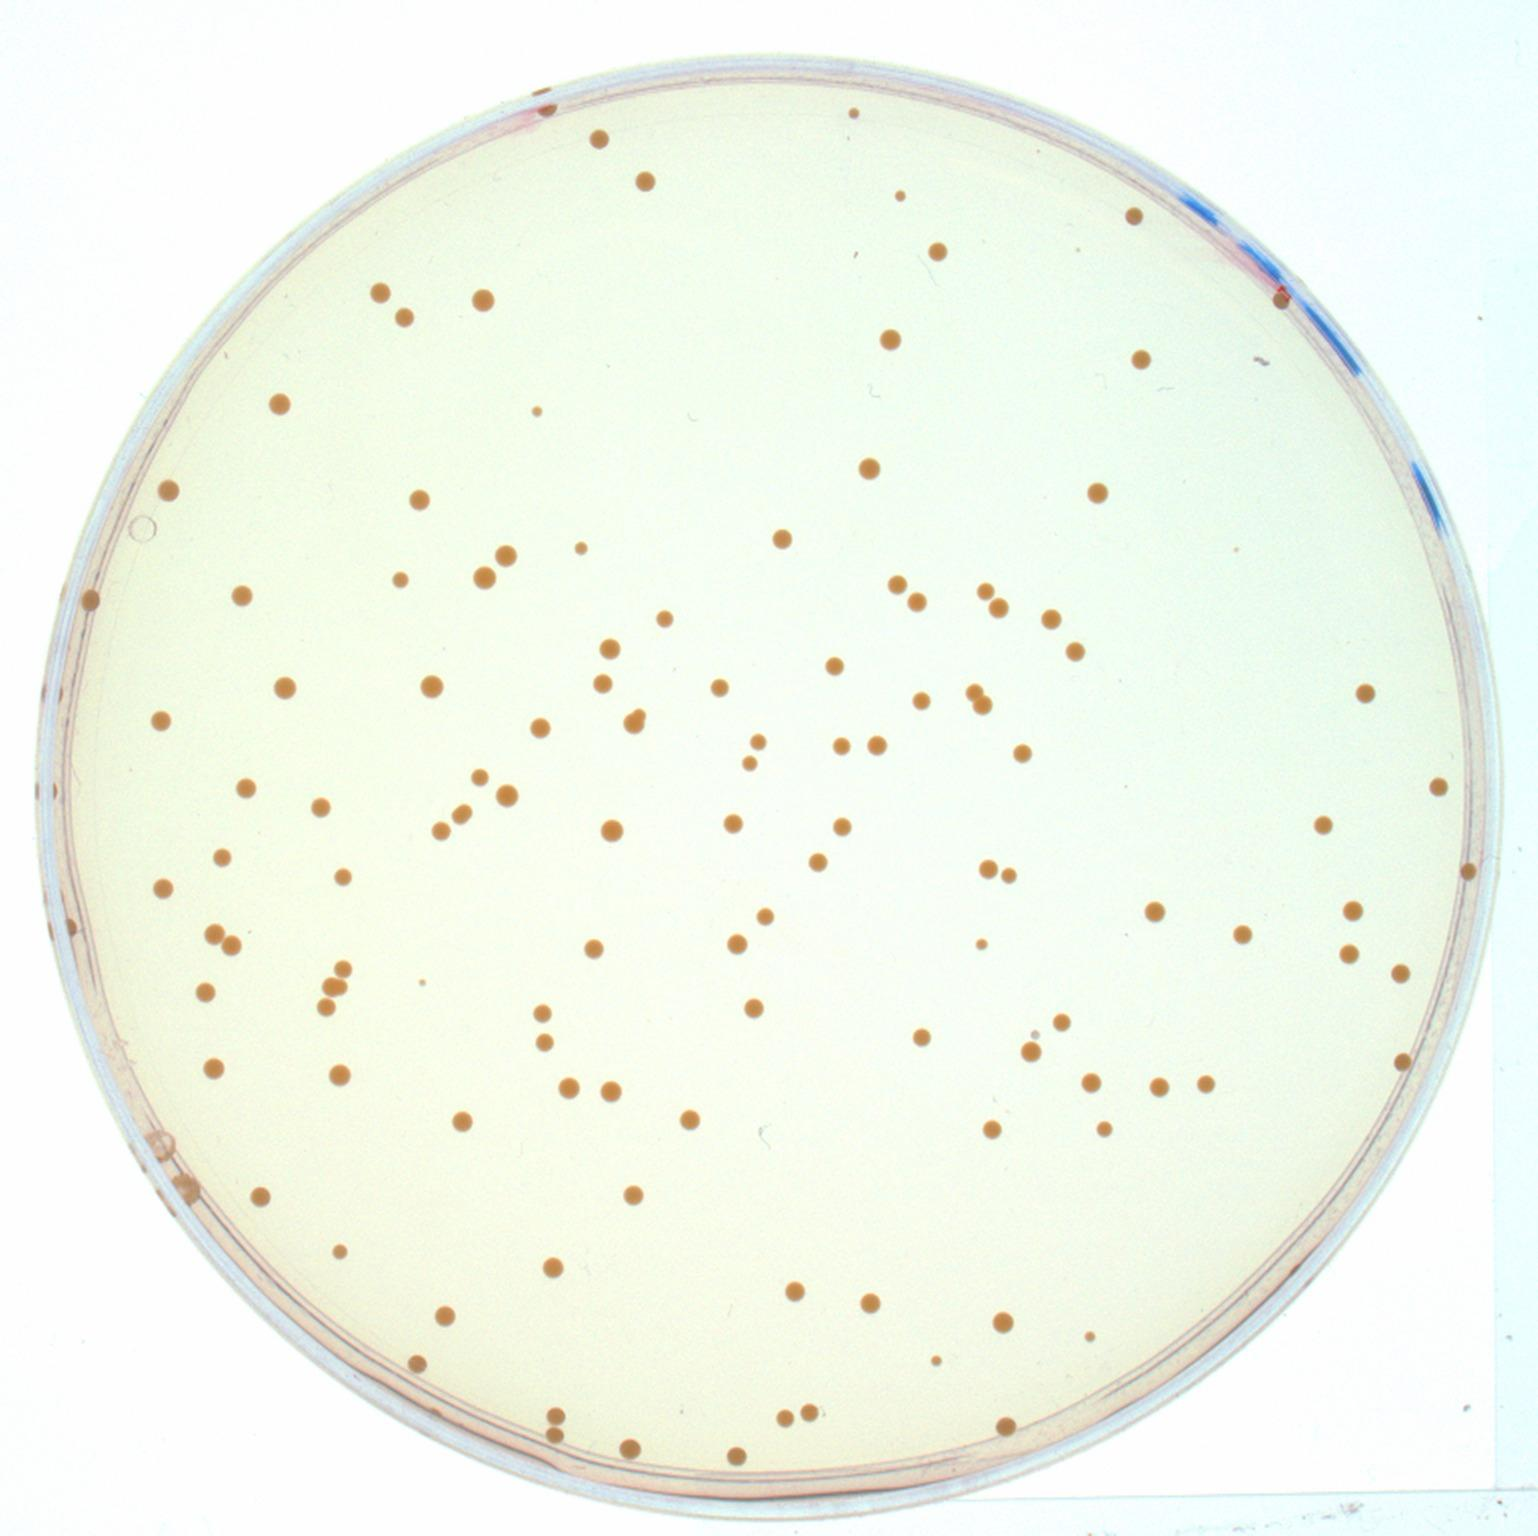colony: (166, 1172, 204, 1211), (263, 385, 298, 419), (151, 477, 186, 509), (464, 558, 495, 594), (266, 671, 298, 703), (402, 484, 436, 515), (467, 284, 498, 316), (225, 578, 255, 612), (364, 276, 395, 307), (75, 584, 104, 615), (487, 540, 519, 568), (146, 703, 176, 733), (446, 1107, 478, 1134), (989, 1308, 1016, 1340), (765, 523, 795, 551), (494, 782, 522, 810), (597, 1079, 625, 1107), (388, 302, 418, 329), (418, 672, 446, 699), (148, 875, 174, 903), (326, 1062, 355, 1089), (540, 1255, 567, 1283), (554, 1076, 581, 1104), (599, 817, 625, 847), (677, 1106, 701, 1137), (200, 920, 227, 947), (616, 1436, 642, 1464), (386, 565, 414, 591), (632, 166, 657, 194), (784, 1279, 808, 1308), (877, 326, 902, 353), (528, 716, 554, 741), (218, 933, 243, 959), (622, 1183, 647, 1210), (796, 1400, 822, 1426), (585, 125, 612, 151), (857, 454, 881, 482), (542, 1404, 570, 1428), (563, 536, 592, 558), (530, 98, 560, 121), (1341, 897, 1366, 923), (1335, 941, 1361, 966), (191, 980, 217, 1006), (201, 1056, 227, 1082), (312, 994, 338, 1020), (723, 1443, 749, 1468), (1037, 608, 1064, 632), (621, 713, 647, 737), (924, 239, 950, 263), (1085, 481, 1109, 506), (885, 571, 909, 596), (865, 733, 889, 758), (1230, 923, 1255, 947), (1427, 775, 1452, 799), (1062, 640, 1086, 665), (725, 931, 749, 956), (591, 671, 615, 696), (234, 775, 258, 800), (210, 845, 234, 871), (249, 1183, 273, 1208), (858, 1290, 882, 1315), (993, 1415, 1017, 1440), (1141, 900, 1168, 923), (433, 1303, 456, 1329), (986, 596, 1010, 620), (1010, 741, 1034, 765), (909, 689, 933, 713), (1020, 1041, 1044, 1065), (1355, 681, 1379, 705), (597, 637, 621, 661), (1129, 347, 1151, 373), (1079, 1072, 1105, 1094), (1147, 1075, 1169, 1100), (720, 812, 743, 837), (405, 1353, 428, 1378), (532, 1031, 557, 1054), (830, 734, 853, 758), (830, 814, 853, 838), (1195, 1072, 1217, 1096), (1389, 962, 1411, 986), (742, 997, 764, 1021), (583, 938, 605, 962), (708, 677, 730, 700), (653, 606, 675, 630), (543, 1422, 566, 1446), (971, 693, 993, 717), (808, 851, 830, 873), (1050, 1011, 1072, 1034), (1313, 813, 1335, 836), (310, 795, 332, 817), (978, 857, 999, 881), (981, 1118, 1002, 1142), (469, 765, 490, 789), (774, 1407, 795, 1431), (1123, 205, 1145, 226), (906, 592, 929, 613), (975, 580, 996, 602), (1458, 861, 1480, 882), (532, 1001, 553, 1024), (1269, 293, 1292, 314), (822, 655, 846, 675), (747, 730, 767, 754), (961, 682, 985, 702), (1392, 1051, 1413, 1072), (909, 1028, 932, 1048), (432, 820, 452, 843), (319, 975, 338, 999), (754, 906, 775, 926), (333, 958, 353, 979), (523, 401, 545, 421), (999, 866, 1019, 886), (333, 865, 353, 885), (1095, 1118, 1113, 1139), (740, 753, 758, 774), (841, 104, 863, 122), (1081, 1326, 1099, 1346), (332, 1242, 350, 1260), (449, 809, 467, 827), (459, 800, 474, 820), (335, 976, 349, 997), (926, 1352, 943, 1369), (974, 935, 989, 954), (630, 705, 647, 720), (892, 188, 908, 203), (414, 975, 429, 989)
